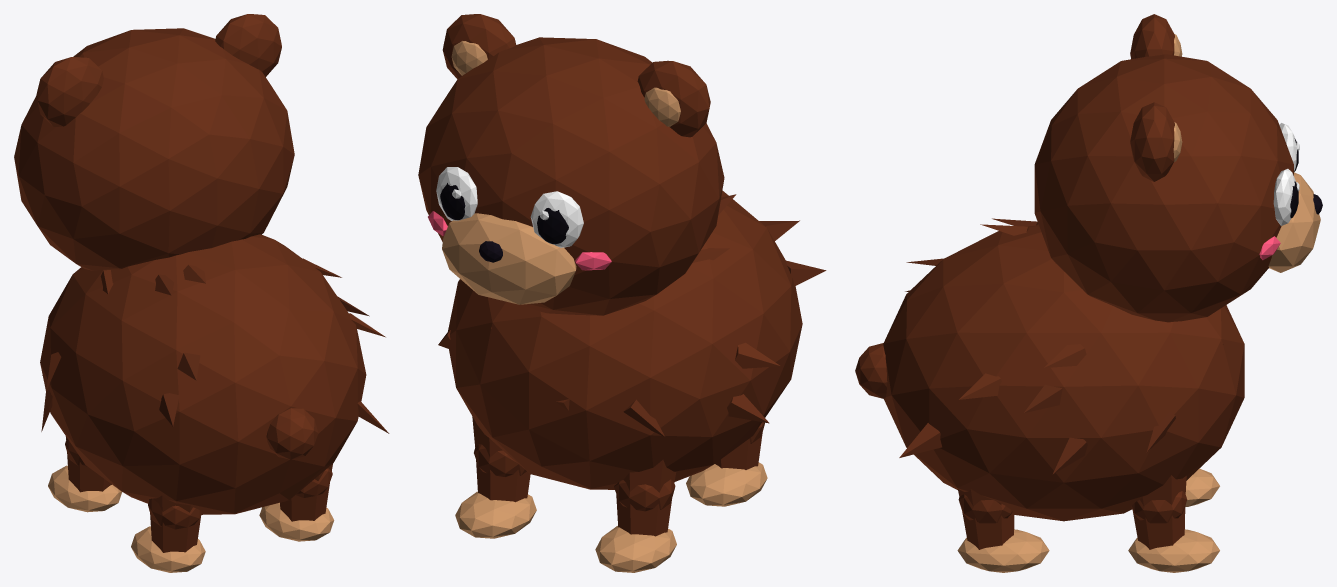
Rendered from choco_bear.obj.
The picture shows the model from 3 angles, left to right: view 1: azimuth 30°, elevation 25°; view 2: azimuth 150°, elevation 25°; view 3: azimuth 270°, elevation 25°; orthographic projection. The views are drawn at different scales.
Visible parts, largest first — view 1: Body_1_m1, Head_2_m4, Leg3Lo_8_m18, Leg3Lo_8_m19, Leg1Lo_4_m13, Leg4Lo_10_m22, Leg4Lo_10_m21, Body_1_m3, Leg1Lo_4_m12; view 2: Body_1_m1, Head_2_m4, Head_2_m5, Leg1Lo_4_m13, Leg2Lo_6_m16, Leg1Lo_4_m12, Head_2_m7, Leg3Lo_8_m19, Leg2Lo_6_m15, Head_2_m8, Body_1_m3, Leg3Lo_8_m18 (+2 smaller); view 3: Body_1_m1, Head_2_m4, Head_2_m5, Leg2Lo_6_m16, Leg4Lo_10_m22, Leg2Lo_6_m15, Leg4Lo_10_m21, Body_1_m3, Head_2_m7, Leg1Lo_4_m13, Leg2Up_5_m14.
Boxes of the visible parts, x1,y1,x2,y2 form: Body_1_m1: [40, 234, 389, 514]; Head_2_m4: [14, 14, 294, 270]; Leg3Lo_8_m18: [148, 498, 201, 552]; Leg3Lo_8_m19: [131, 526, 205, 572]; Leg1Lo_4_m13: [48, 465, 121, 512]; Leg4Lo_10_m22: [259, 502, 334, 541]; Leg4Lo_10_m21: [280, 468, 332, 521]; Body_1_m3: [155, 274, 369, 426]; Leg1Lo_4_m12: [65, 439, 111, 492]; Body_1_m1: [447, 190, 802, 489]; Head_2_m4: [418, 14, 724, 315]; Head_2_m5: [442, 41, 680, 304]; Leg1Lo_4_m13: [595, 526, 676, 572]; Leg2Lo_6_m16: [455, 491, 536, 538]; Leg1Lo_4_m12: [614, 479, 675, 536]; Head_2_m7: [436, 167, 583, 247]; Leg3Lo_8_m19: [686, 462, 767, 506]; Leg2Lo_6_m15: [474, 444, 530, 502]; Head_2_m8: [440, 183, 568, 244]; Body_1_m3: [438, 194, 826, 348]; Leg3Lo_8_m18: [715, 422, 764, 469]; Body_1_m1: [855, 224, 1244, 521]; Head_2_m4: [1034, 14, 1293, 322]; Head_2_m5: [1173, 34, 1320, 272]; Leg2Lo_6_m16: [1128, 529, 1219, 572]; Leg4Lo_10_m22: [957, 529, 1049, 572]; Leg2Lo_6_m15: [1131, 491, 1187, 549]; Leg4Lo_10_m21: [958, 494, 1014, 549]; Body_1_m3: [905, 218, 1175, 474]; Head_2_m7: [1273, 123, 1296, 225]; Leg1Lo_4_m13: [1185, 468, 1219, 506]; Leg2Up_5_m14: [1140, 475, 1186, 506].
Bounding box in the file's own units: 1.8 × 2.6 × 2.33.
